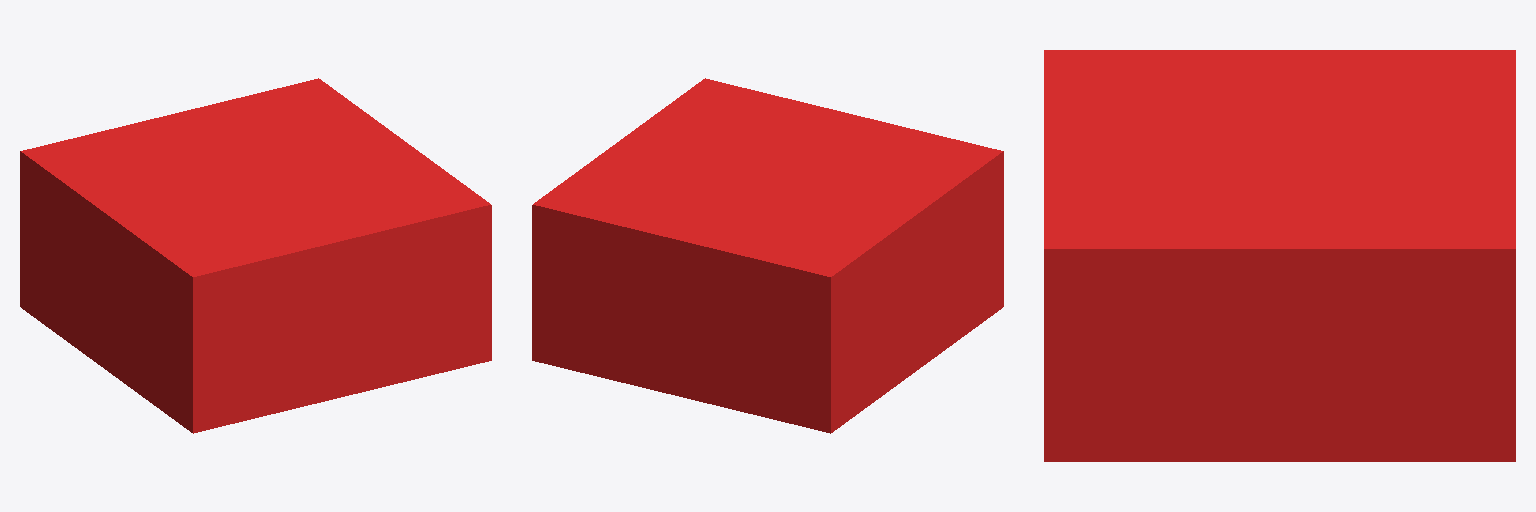
URDF robot description (wall maze 1):
<?xml version="1.0"?>
<robot name="wall maze 1">
    <!-- Colors -->
    <material name="red">
        <color rgba="0.941 0.204 0.204 1"/>
    </material>

    <!-- Wall -->
    <link name="base_link">
        <visual>
            <geometry>
                <box size="5 5 2.5" />
                <origin rpy="0 0 0" xyz="0 0 0"/>
            </geometry>
            <material name="red"/>
        </visual>

        <collision>
             <geometry>
                <box size="5 5 2.5" />
                <origin rpy="0 0 0" xyz="0 0 0"/>
            </geometry>
        </collision>
        <inertial>
            <mass value="0"/>
            <inertia ixx="0" ixy="0" ixz="0" iyy="0" iyz="0" izz="0"/>
        </inertial>
    </link>
</robot>

--- What the picture shows (computed from the rendered views, not written in the file) ---
The picture shows the robot from 3 angles, left to right: view 1: azimuth 30°, elevation 25°; view 2: azimuth 150°, elevation 25°; view 3: azimuth 270°, elevation 25°; orthographic projection.
Model wall maze 1 with 1 links and 0 joints (none), rooted at base_link, posed every joint at zero.
Links seen in each view (by area): view 1: base_link; view 2: base_link; view 3: base_link.
Boxes of the visible links, left/top/right/bottom form: base_link: left=20, top=78, right=491, bottom=433; base_link: left=532, top=78, right=1003, bottom=433; base_link: left=1044, top=50, right=1515, bottom=461.
Size in the robot's own frame: 5 by 5 by 2.5 metres.
Geometry: primitives only (box / cylinder / sphere), no mesh files.